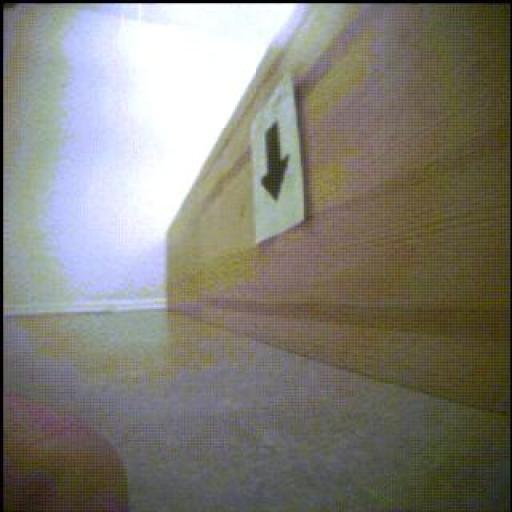arrow: (262, 124, 291, 201)
